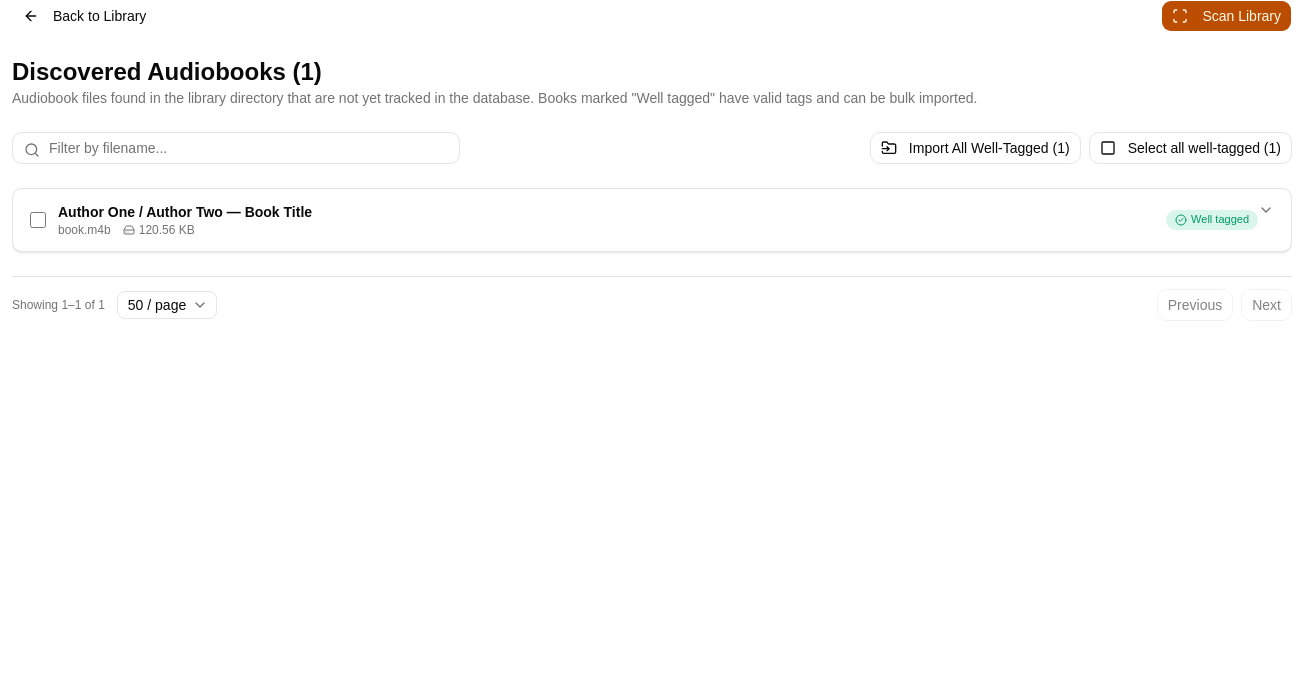
Test case: DiscoveredAudiobooks › matches UpdateProgress with alternative path formatting / casing using pathsEqual
Click the text "Book Title" at (185, 212), box 58,204 -> 312,220
(page scrolled)
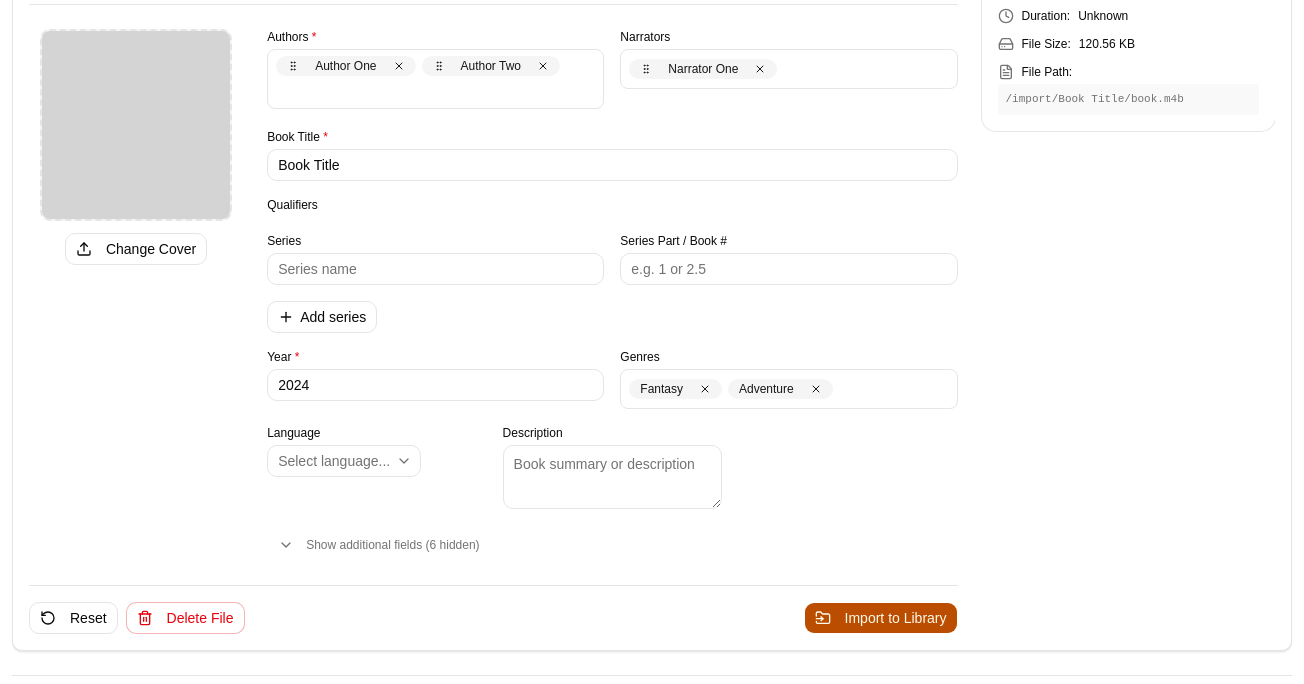
Click the button "Import to Library" at (881, 618), box 804,602 -> 958,634
(page scrolled)
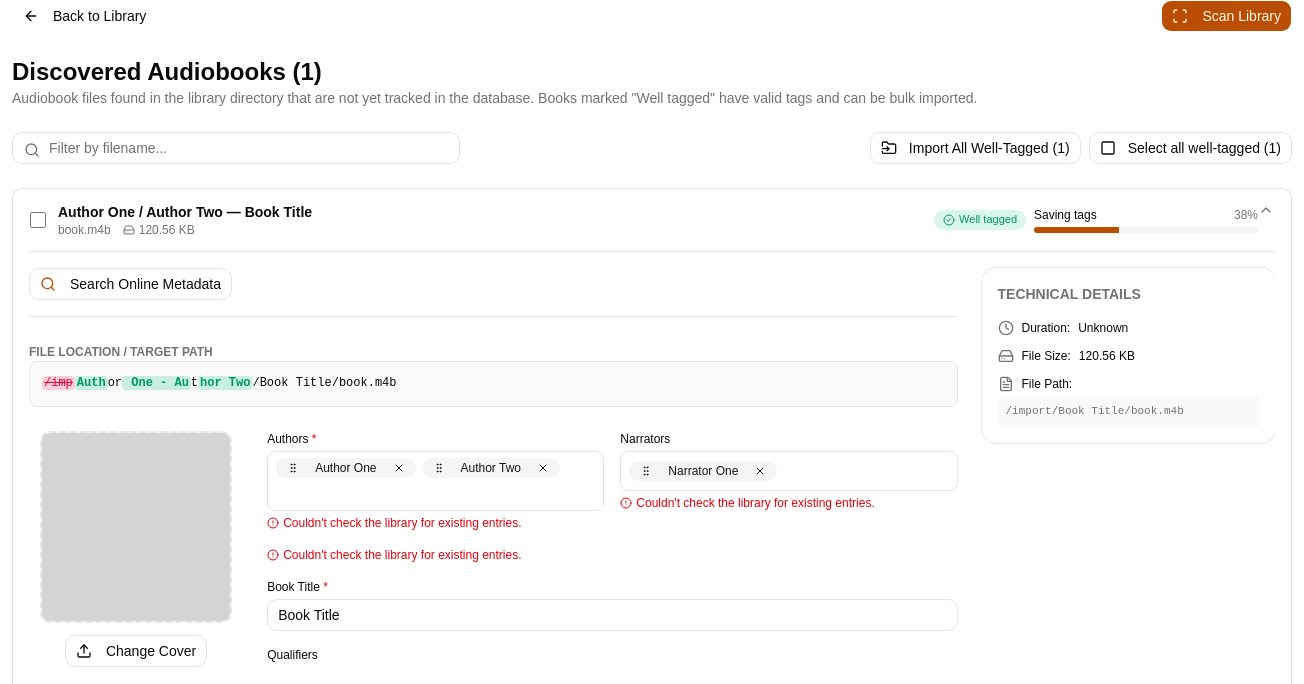
Expected: the text "Saving tags" is shown, 1034,208 -> 1097,222
Expected: the text "38%" is shown, 1234,207 -> 1258,223
